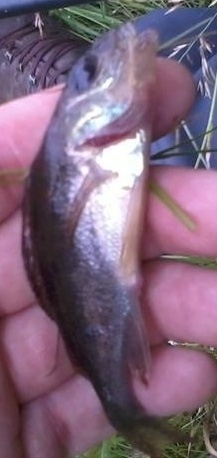Gymnocephalus cernuus: (20, 20, 197, 458)
